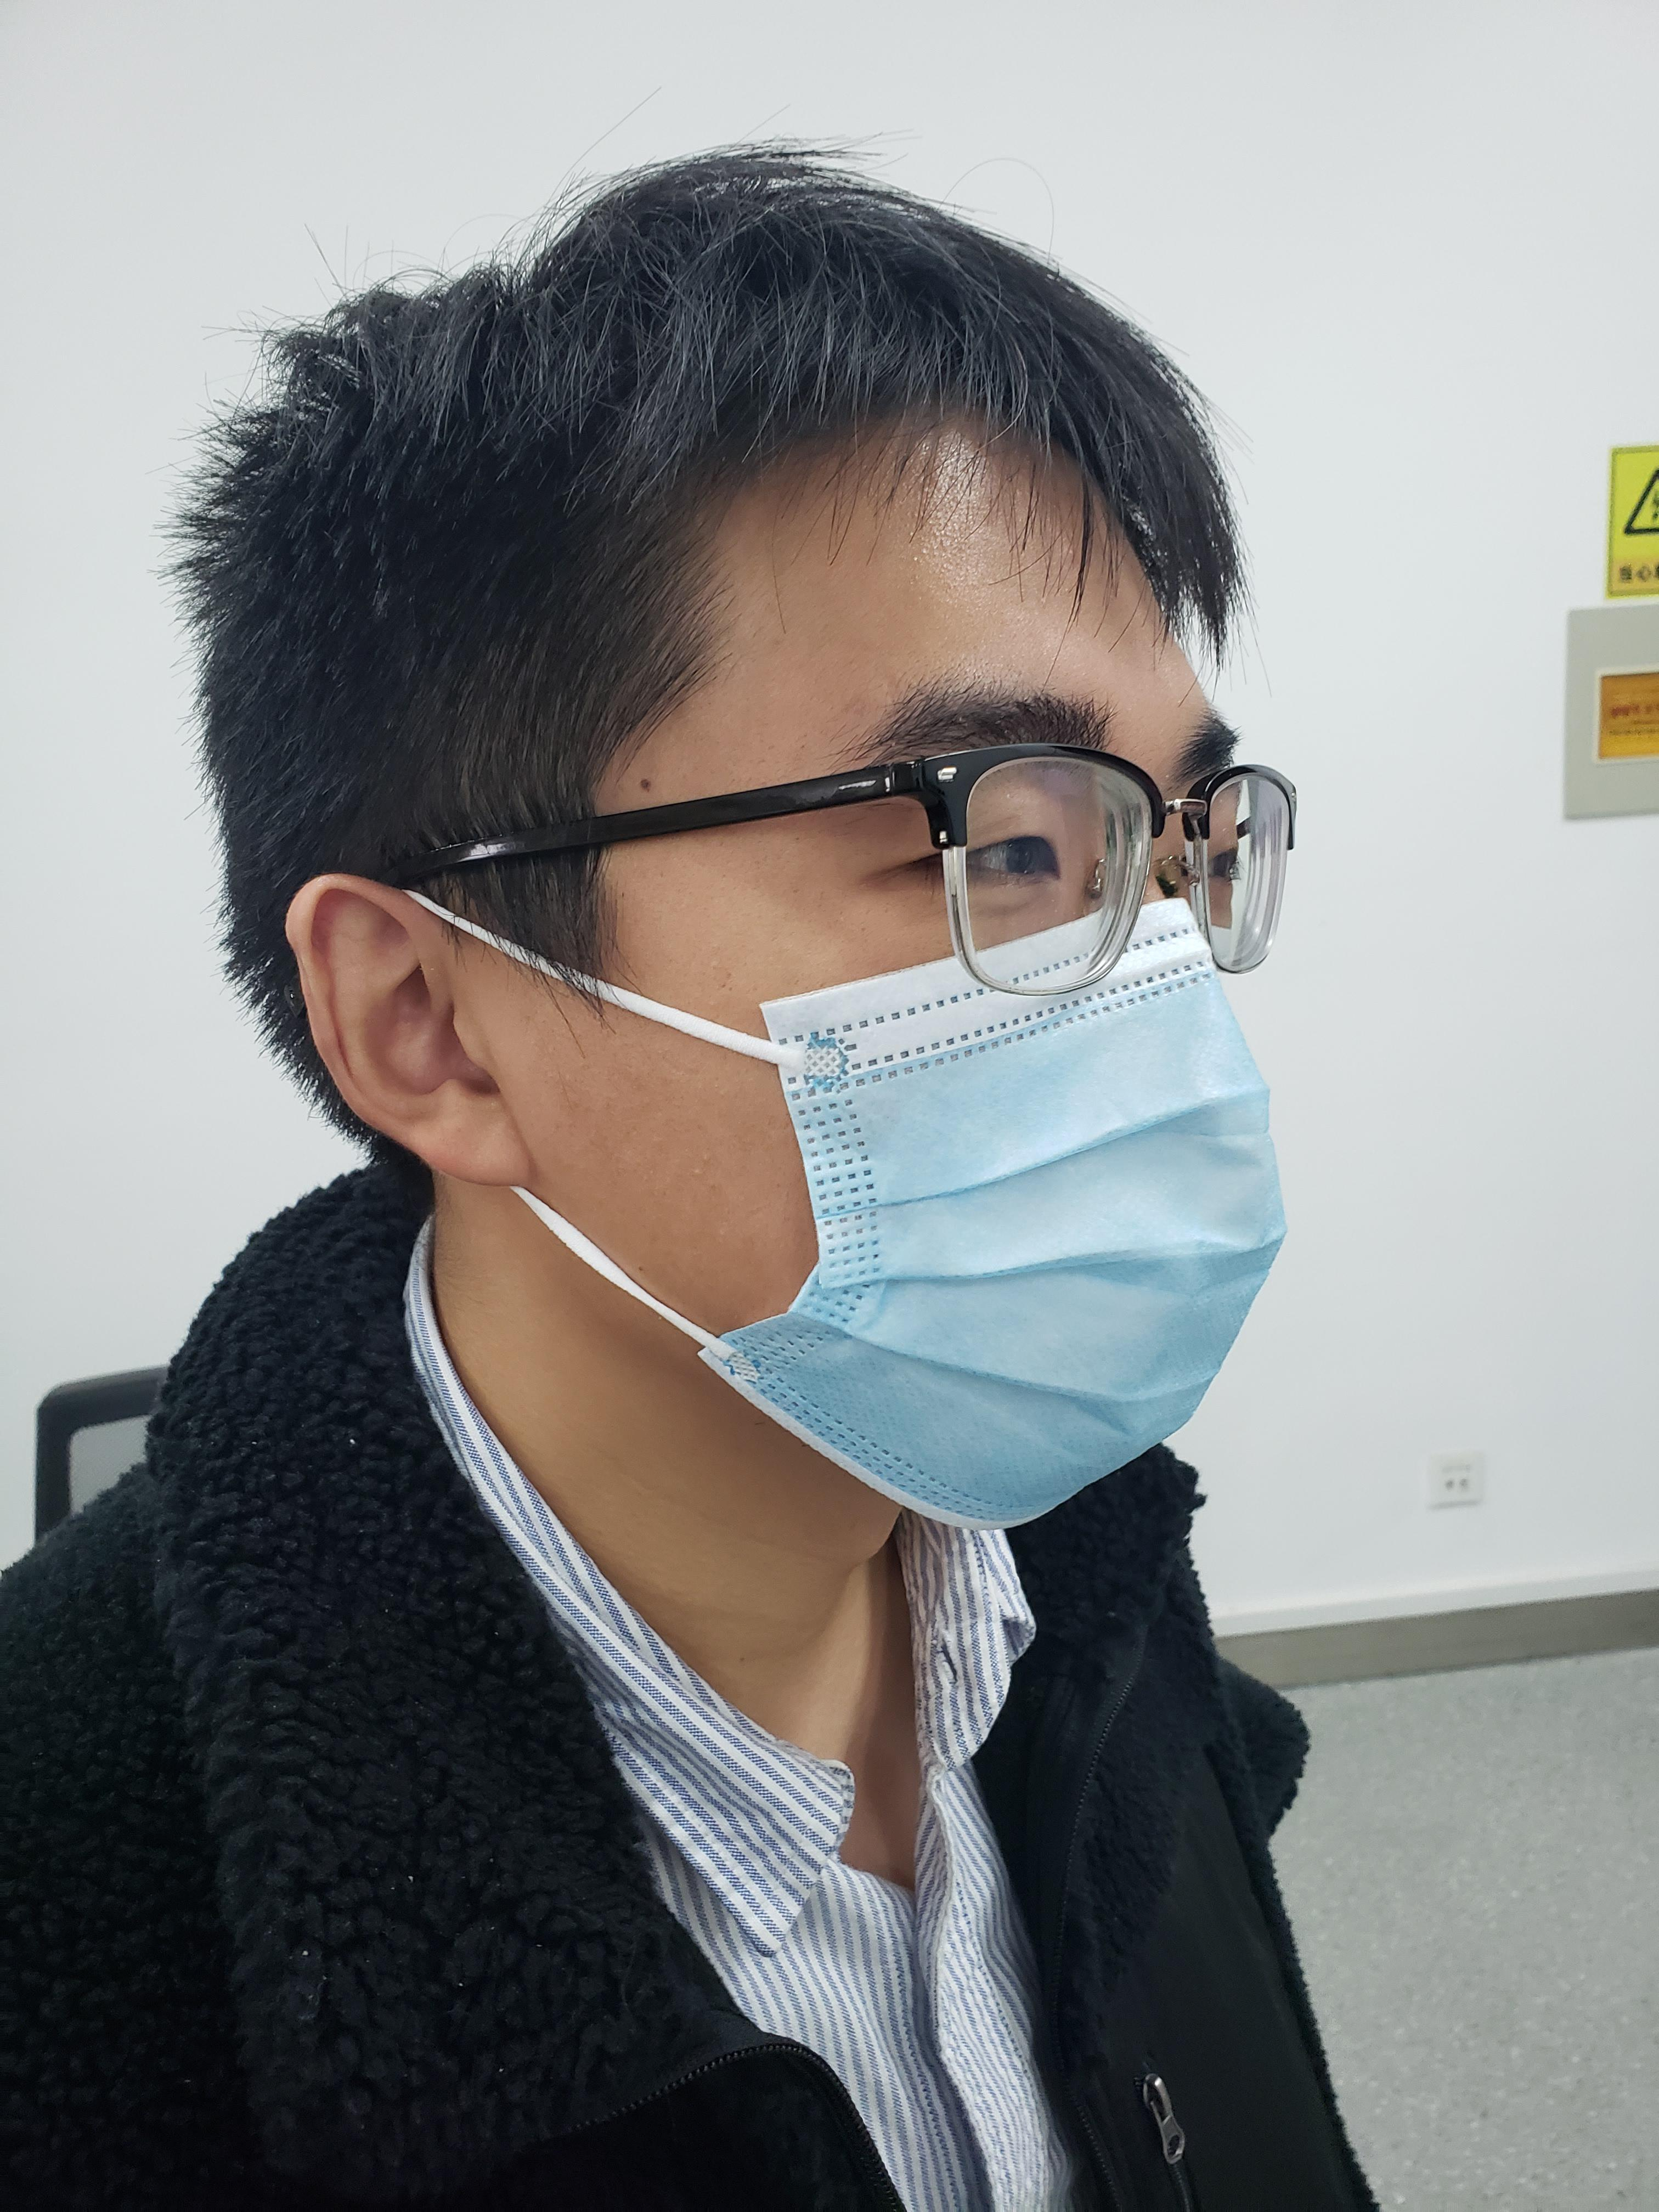Mask: (366, 869, 1326, 1552)
